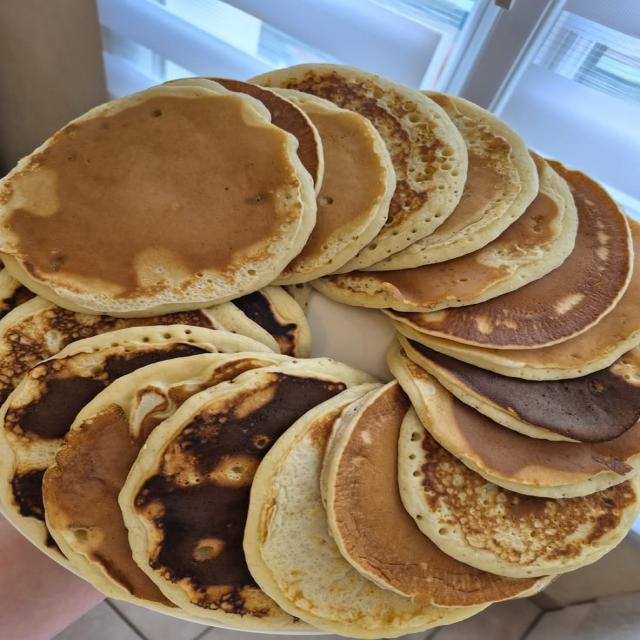pancake: (0, 86, 316, 317), (120, 359, 373, 630), (43, 352, 289, 613), (0, 325, 269, 559), (245, 389, 484, 638), (321, 381, 550, 606), (386, 162, 633, 349), (250, 64, 467, 271), (313, 159, 577, 312), (399, 410, 639, 577), (388, 346, 639, 498), (366, 92, 539, 270), (0, 297, 278, 403), (393, 260, 639, 379), (400, 336, 639, 442), (270, 89, 395, 284), (209, 77, 324, 195), (228, 286, 312, 357), (0, 269, 34, 319), (283, 283, 313, 315)
